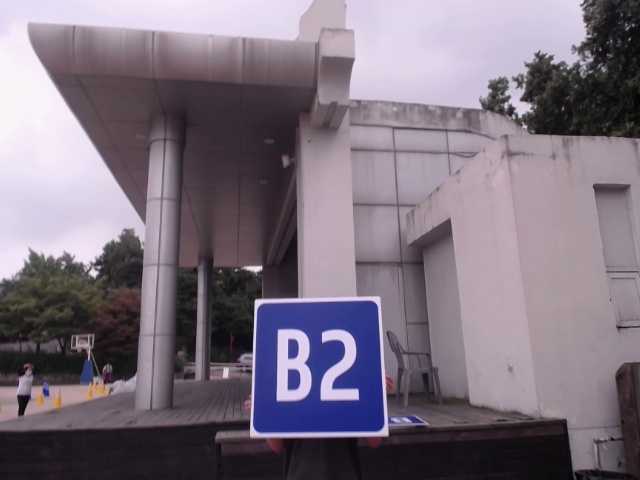delivery_b2: (254, 298, 387, 434)
